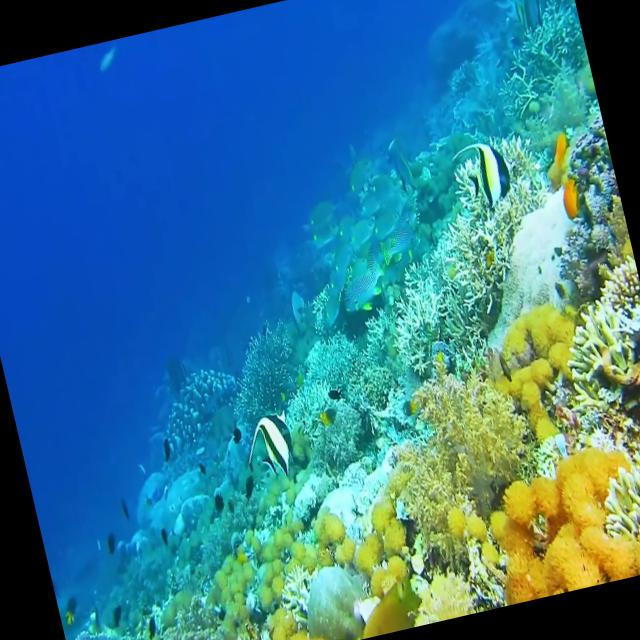fish: (453, 132, 522, 218), (247, 408, 300, 474)
